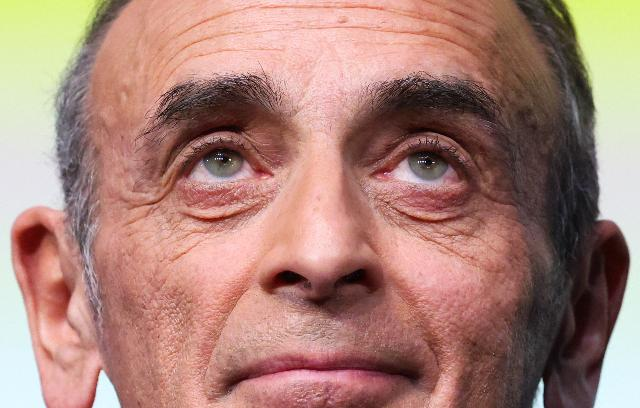crows_feet: (134, 171, 168, 223), (476, 170, 518, 211)
forehead: (252, 1, 382, 14), (404, 24, 458, 50), (444, 3, 494, 27), (182, 9, 240, 29), (180, 34, 226, 58), (315, 16, 365, 38)
gummy_smile: (208, 291, 248, 351)
masseter: (167, 237, 206, 264)
